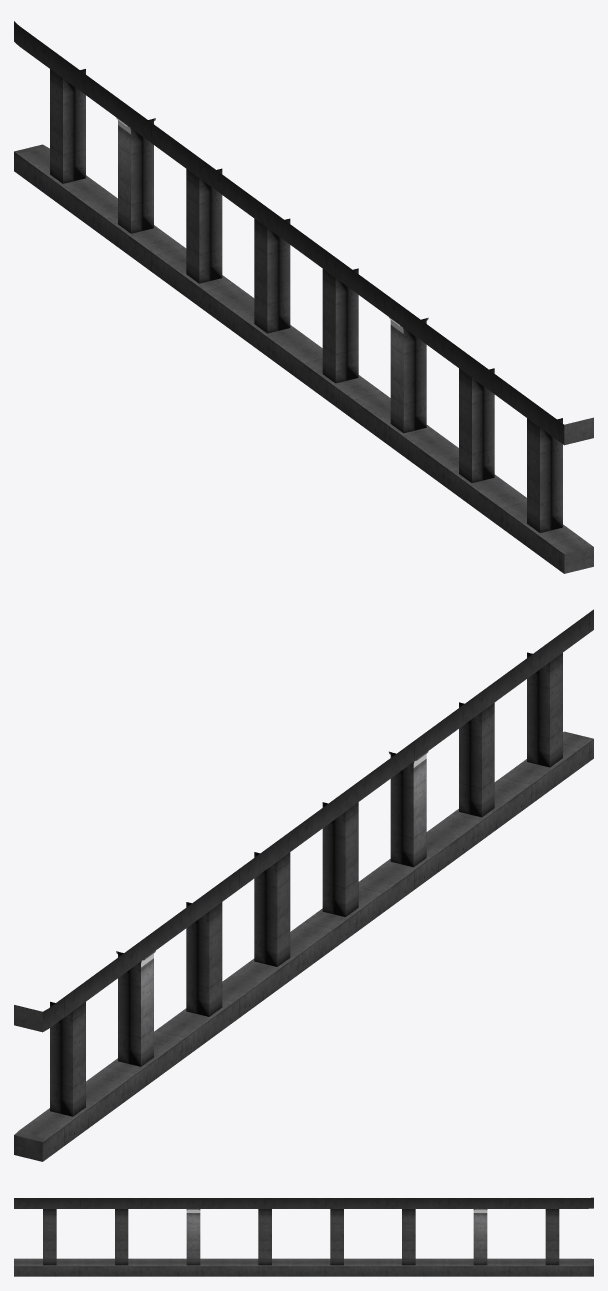
Rendered from KIN_CHIKA_AMB_PAUL.glb.
3 renders of one model, top to bottom at view 1: azimuth 30°, elevation 25°; view 2: azimuth 150°, elevation 25°; view 3: azimuth 270°, elevation 25°, orthographic. The views are drawn at different scales.
Visible parts, largest first — view 1: RAIL, obj7, obj6, obj5, obj4, obj2, obj9, obj8, BONE0; view 2: RAIL, obj4, obj5, obj7, obj6, obj2, BONE0, obj9, obj8; view 3: RAIL, obj7, obj2, BONE0, obj9, obj6, obj5, obj4, obj8.
Boxes of the visible parts, box(x1,y1,x2,y2) form: RAIL: box(14, 21, 593, 573); obj7: box(389, 317, 428, 433); obj6: box(322, 268, 358, 383); obj5: box(254, 218, 290, 333); obj4: box(186, 168, 222, 283); obj2: box(116, 117, 155, 233); obj9: box(527, 418, 562, 532); obj8: box(459, 368, 494, 482); BONE0: box(50, 69, 85, 183); RAIL: box(14, 609, 593, 1161); obj4: box(186, 902, 222, 1016); obj5: box(254, 852, 290, 966); obj7: box(389, 751, 428, 867); obj6: box(322, 802, 358, 916); obj2: box(116, 950, 155, 1066); BONE0: box(50, 1001, 85, 1116); obj9: box(527, 652, 562, 767); obj8: box(459, 702, 494, 817); RAIL: box(14, 1197, 593, 1276); obj7: box(186, 1209, 200, 1265); obj2: box(473, 1209, 487, 1265); BONE0: box(545, 1209, 559, 1265); obj9: box(43, 1209, 56, 1265); obj6: box(258, 1209, 271, 1265); obj5: box(330, 1209, 343, 1265); obj4: box(402, 1209, 415, 1265); obj8: box(115, 1209, 128, 1265).
Size of the model in its own units: 3.15 by 15.2 by 101.
13 materials, 13 textured.
